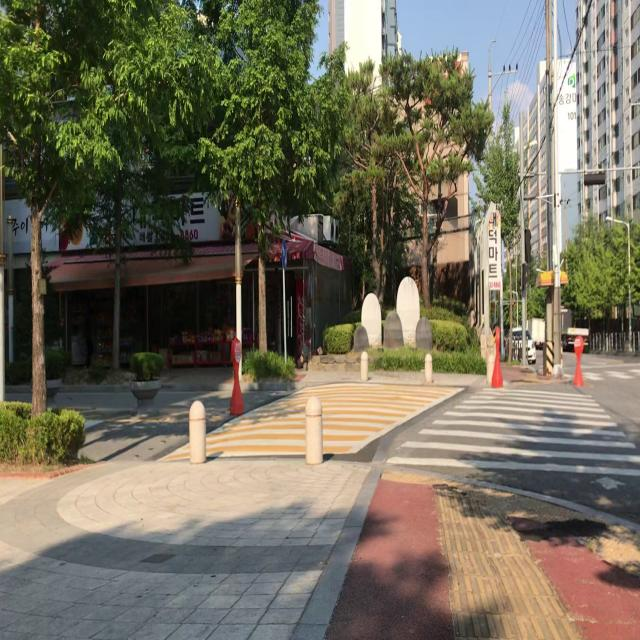횡단보도: (384, 385, 640, 495)
